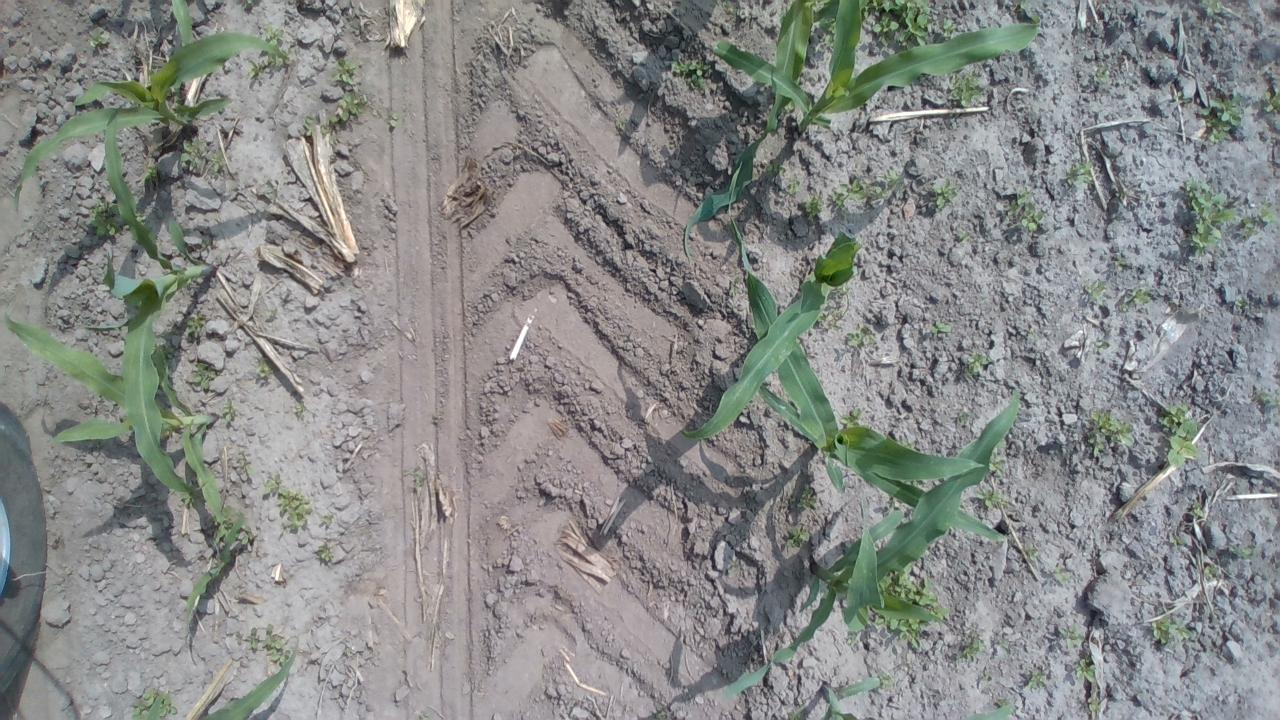Maize: (702, 378, 1032, 707), (683, 1, 1048, 262), (736, 262, 1016, 552), (87, 89, 240, 506), (15, 1, 294, 212), (678, 222, 868, 446), (0, 305, 242, 451), (168, 414, 270, 670), (130, 649, 304, 720), (801, 675, 1032, 720)
Weeds: (871, 563, 948, 649), (848, 0, 958, 48), (1176, 179, 1234, 257), (1155, 402, 1200, 472), (262, 472, 314, 532), (1082, 404, 1136, 459), (248, 25, 294, 81), (827, 178, 909, 208), (333, 56, 372, 118), (1201, 93, 1246, 144), (246, 626, 296, 669), (1147, 611, 1200, 651), (178, 138, 229, 178), (667, 50, 713, 92), (944, 69, 988, 112), (1006, 188, 1046, 233), (126, 686, 178, 720), (87, 202, 127, 243), (298, 109, 346, 139), (1238, 207, 1278, 240), (1058, 619, 1092, 652), (1057, 160, 1093, 190), (186, 359, 218, 392), (793, 485, 825, 518), (959, 630, 990, 664), (970, 484, 1010, 510), (957, 350, 994, 378), (841, 322, 873, 352), (922, 180, 957, 207), (139, 158, 168, 190), (1084, 276, 1110, 310), (1070, 659, 1104, 685), (780, 520, 809, 550), (1250, 383, 1280, 412), (87, 26, 117, 54), (798, 193, 826, 223), (183, 313, 210, 342), (1022, 672, 1052, 698), (1126, 288, 1154, 313), (1050, 564, 1078, 589), (1226, 543, 1262, 562), (840, 406, 866, 431), (986, 450, 1008, 478), (254, 358, 274, 386), (316, 508, 338, 532), (1263, 82, 1280, 112), (784, 176, 807, 198), (220, 398, 238, 426), (408, 467, 428, 492), (1086, 65, 1110, 85), (1168, 533, 1192, 553), (1021, 542, 1042, 564), (382, 109, 402, 131), (1108, 255, 1130, 274), (316, 541, 334, 564), (1201, 0, 1225, 17), (928, 318, 952, 334), (763, 160, 785, 177), (1232, 296, 1251, 315), (1188, 501, 1204, 522), (1200, 564, 1219, 581), (292, 398, 308, 417)
